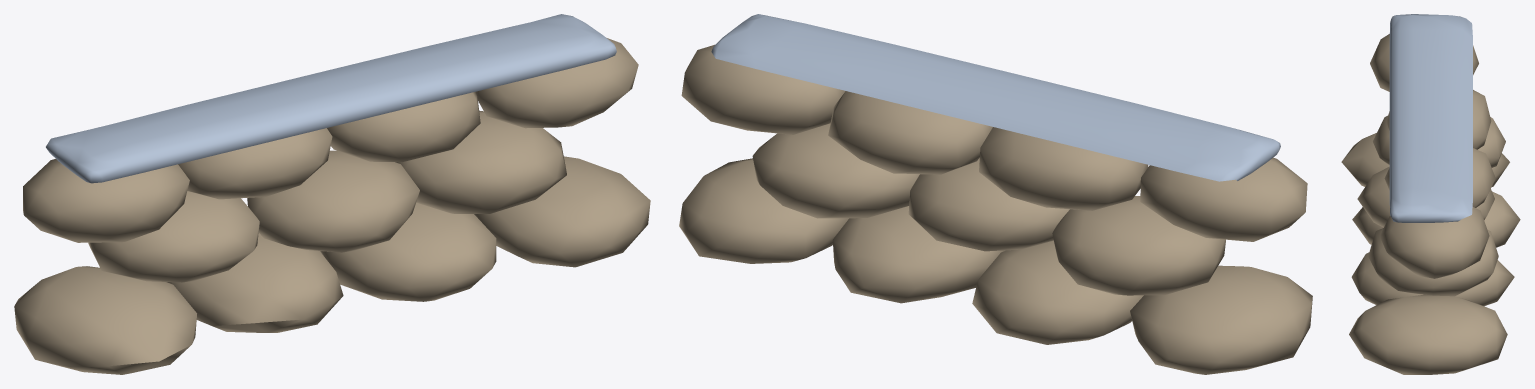
File: barricade_sandbags.glb
3 renders of one model, left to right at view 1: azimuth 30°, elevation 25°; view 2: azimuth 150°, elevation 25°; view 3: azimuth 270°, elevation 25°, orthographic. The views are drawn at different scales.
Visible parts, largest first — view 1: Prop; view 2: Prop; view 3: Prop.
Boxes of the visible parts, x1,y1,x2,y2 form: Prop: [14, 14, 650, 374]; Prop: [679, 14, 1312, 374]; Prop: [1341, 14, 1520, 374].
Size of the model in its own units: 2.03 by 0.6795 by 0.6594.
